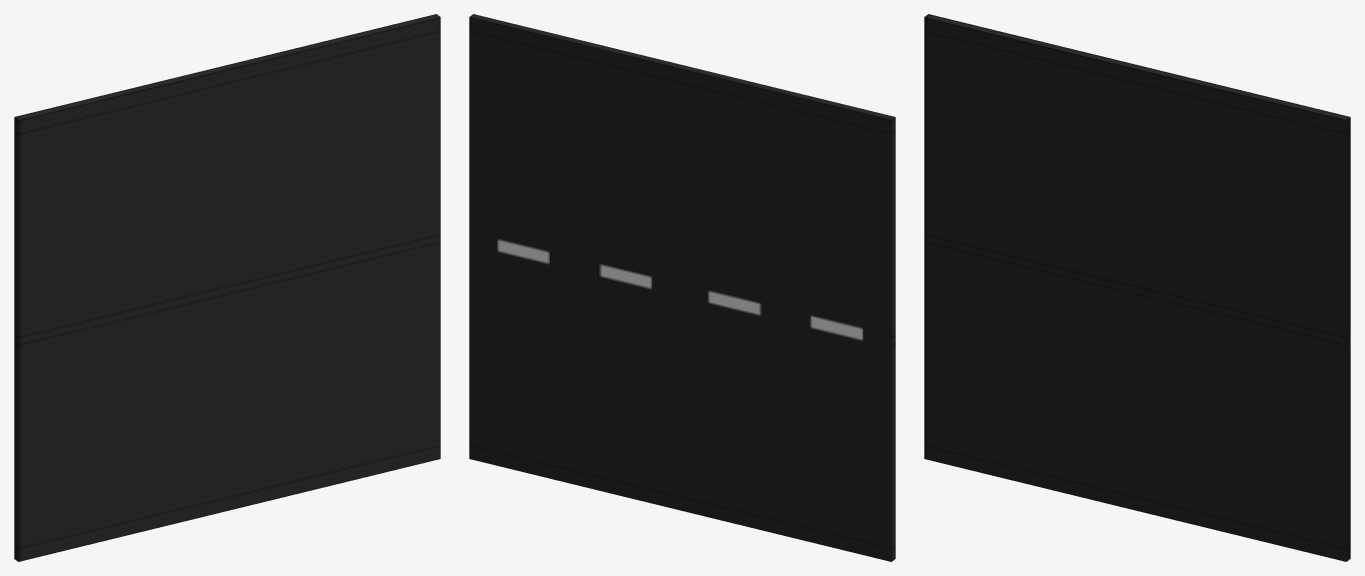
The model's file is asphalt-road-block-4m.obj.
3 renders of one model, left to right at view 1: azimuth 30°, elevation 25°; view 2: azimuth 150°, elevation 25°; view 3: azimuth 330°, elevation 25°, orthographic.
Parts seen in each view (by area): view 1: asphalt-road-block-4m_Plane.035; view 2: asphalt-road-block-4m_Plane.035; view 3: asphalt-road-block-4m_Plane.035.
Part boxes in pixels (box(x1,y1,x2,y2)): asphalt-road-block-4m_Plane.035: box(14, 14, 440, 561); asphalt-road-block-4m_Plane.035: box(469, 14, 895, 561); asphalt-road-block-4m_Plane.035: box(924, 14, 1350, 561).
Size of the model in its own units: 4 by 4 by 0.0695.
